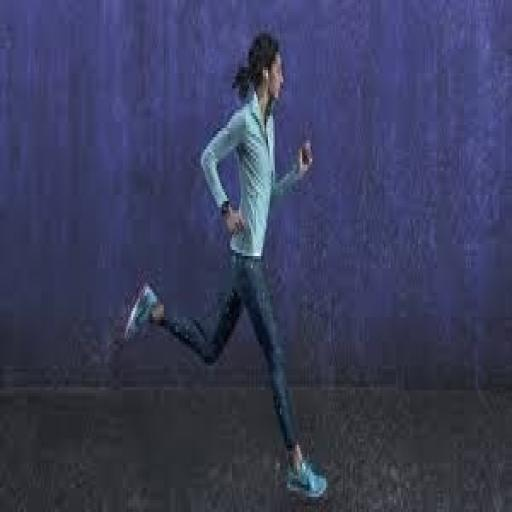running: (121, 27, 331, 506)
